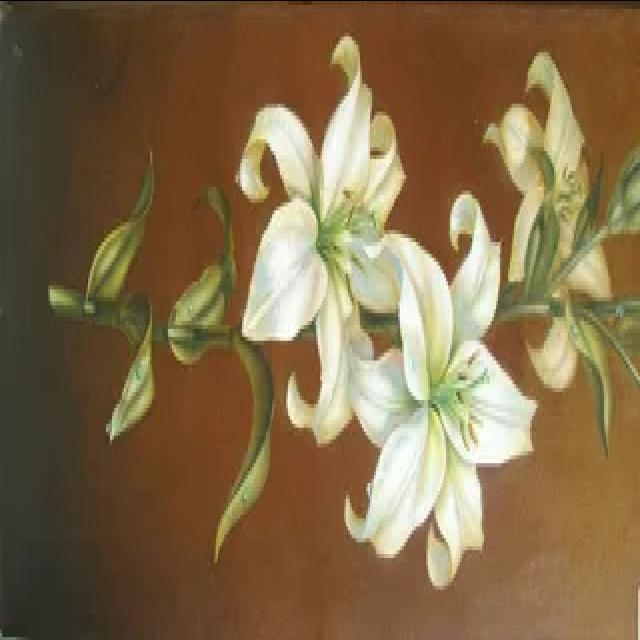lily: (337, 160, 553, 604)
